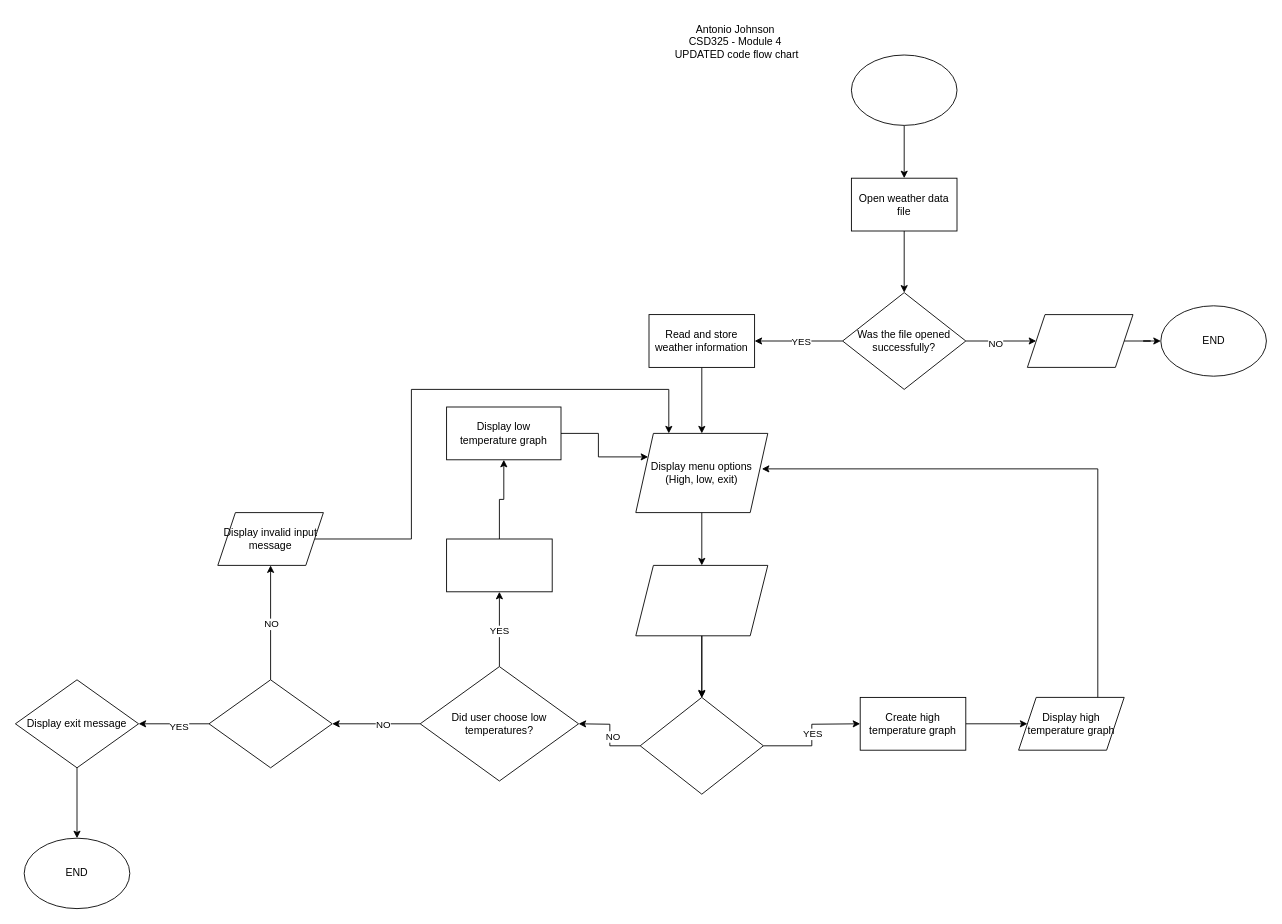
The diagram is 1282 pixels wide and 924 high, and some of its shapes have lost their labels. The centre of each missing label's shape, as x and y in pixels:
"Create low temperature graph" goes at (x=499, y=565).
"Did user choose exit?" goes at (x=270, y=723).
"Did user choose high?" goes at (x=701, y=745).
"Display error message" goes at (x=1080, y=340).
"Get users selection" goes at (x=701, y=600).
"START" goes at (x=904, y=89).
